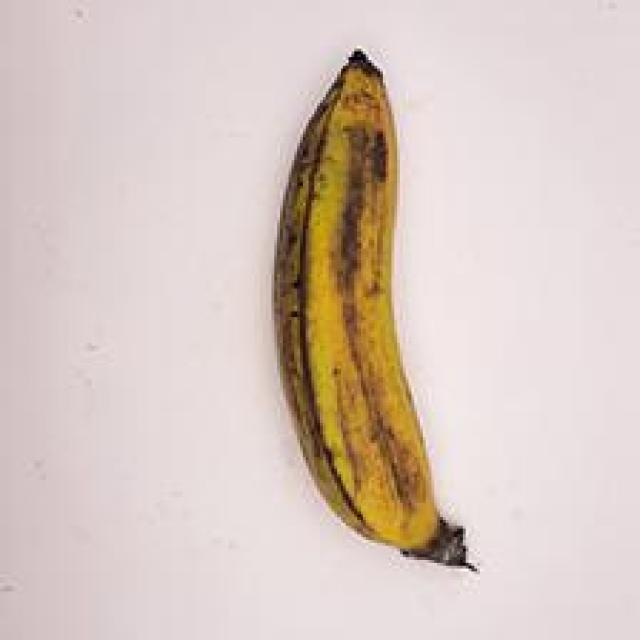Overripe: (238, 21, 552, 591)
